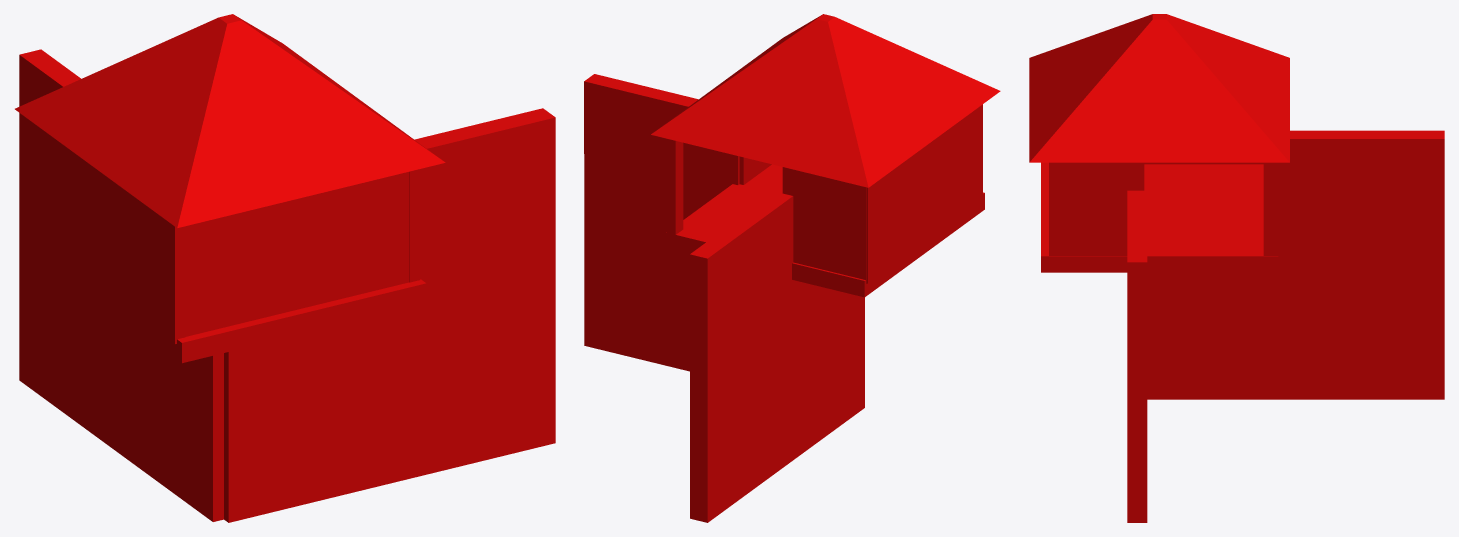
File: SM_Bld_Fort_TowerCorner_01_Collision.fbx
3 views of the same model, side by side, from view 1: azimuth 30°, elevation 25°; view 2: azimuth 150°, elevation 25°; view 3: azimuth 270°, elevation 25° (orthographic). The views are drawn at different scales.
Parts seen in each view (by area): view 1: SM_Bld_Fort_TowerCorner_01_Collision; view 2: SM_Bld_Fort_TowerCorner_01_Collision; view 3: SM_Bld_Fort_TowerCorner_01_Collision.
Part boxes in pixels (<box>): SM_Bld_Fort_TowerCorner_01_Collision: <box>15,14,555,522</box>; SM_Bld_Fort_TowerCorner_01_Collision: <box>584,14,1000,522</box>; SM_Bld_Fort_TowerCorner_01_Collision: <box>1029,14,1444,522</box>.
Bounding box in the file's own units: 668 × 703 × 683.
